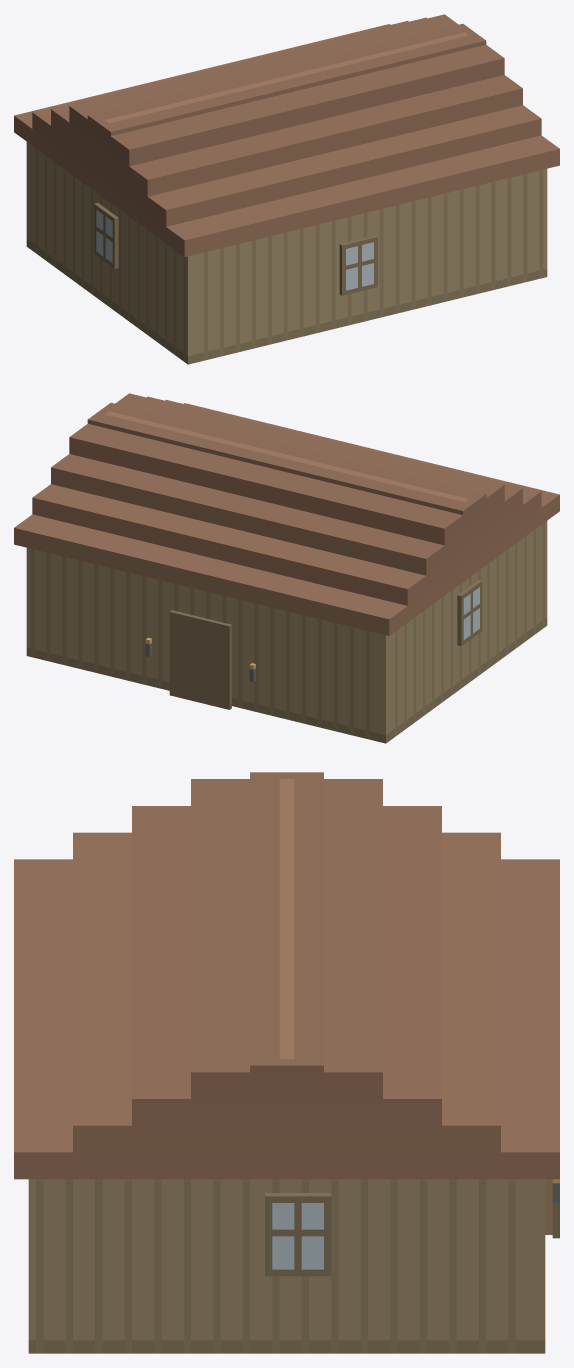
File: aserradero_04.glb
The picture shows the model from 3 angles, top to bottom: view 1: azimuth 30°, elevation 25°; view 2: azimuth 150°, elevation 25°; view 3: azimuth 270°, elevation 25°; orthographic projection. The views are drawn at different scales.
Parts seen in each view (by area): view 1: aserradero_04; view 2: aserradero_04; view 3: aserradero_04.
Boxes of the visible parts, <box> form: aserradero_04: <box>14,14,559,364</box>; aserradero_04: <box>14,393,559,743</box>; aserradero_04: <box>14,772,559,1353</box>.
Bounding box in the file's own units: 9.4 × 4.4 × 7.4.
